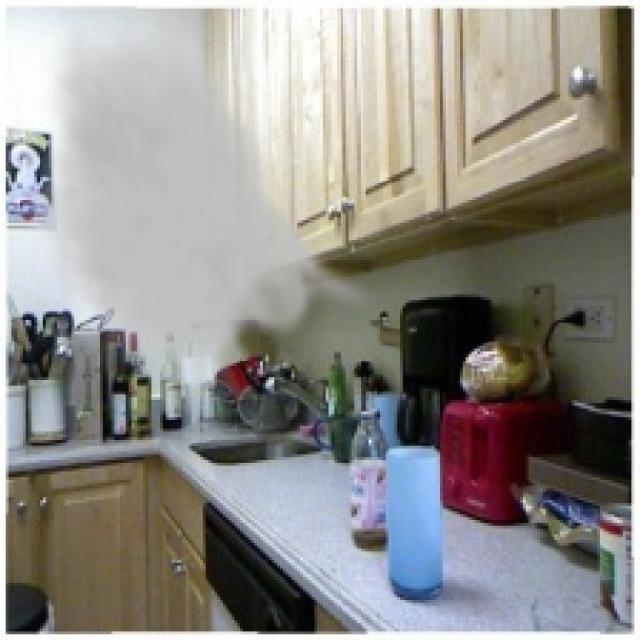Smoke: (31, 8, 380, 383)
